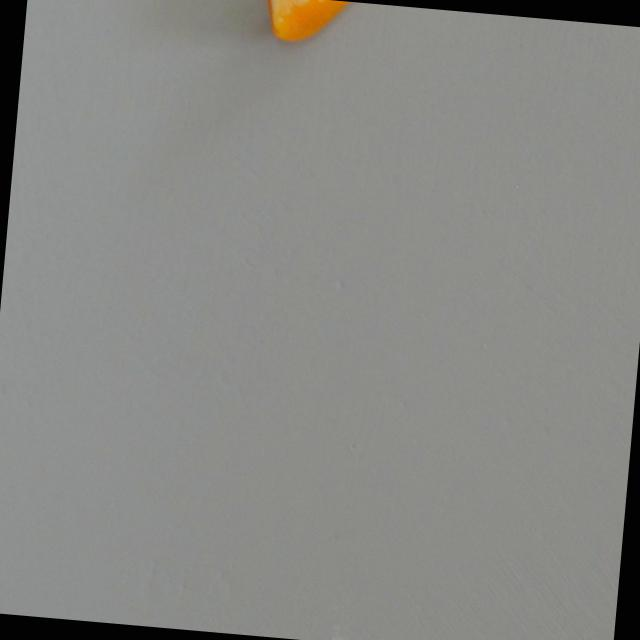dañado: (253, 0, 373, 55)
